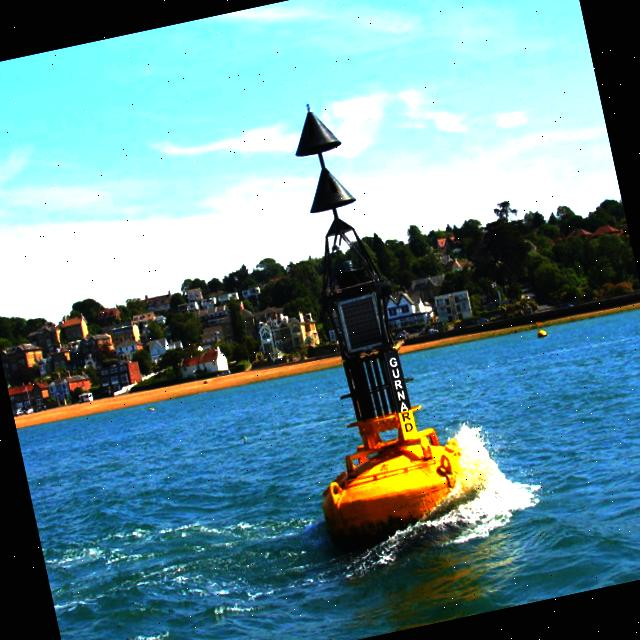marque: (239, 81, 505, 552)
